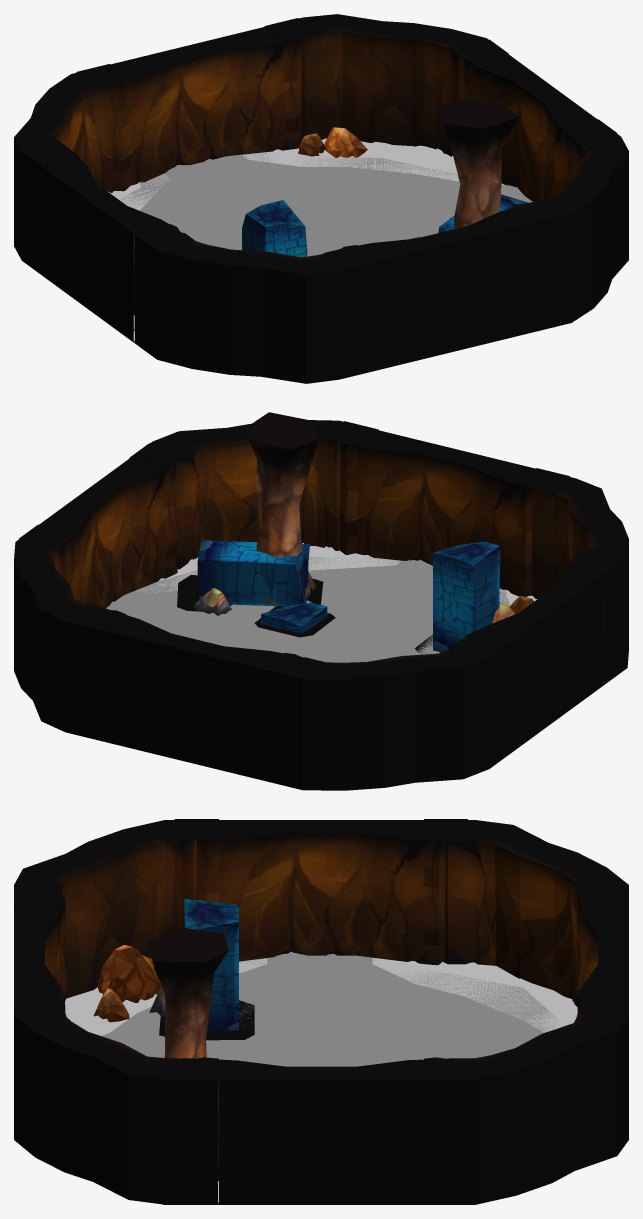
Rendered from Dungeon_062_StartRoom_001_008.fbx.
3 renders of one model, top to bottom at view 1: azimuth 30°, elevation 25°; view 2: azimuth 150°, elevation 25°; view 3: azimuth 270°, elevation 25°, orthographic. The views are drawn at different scales.
Visible parts, largest first — view 1: Dun_062_StartRoom_001_wall, Dun_062_Door_002 (×4), Dun_062_StartRoom_002_Nav, Dungeon_011_Object_010, Dun_062_StartRoom_001_shadow, Dun_051_Obj01_Pillar, Dun_062_Object_100; view 2: Dun_062_Door_002 (×4), Dun_062_StartRoom_001_wall, Dun_062_StartRoom_002_Nav, Dun_051_Obj02_Pillar, Dungeon_011_Object_010, Dun_051_Obj01_Pillar, Dun_062_StartRoom_001_shadow, Dun_051_Obj02_Pillar_Shadow, Dungeon_011_Object_013; view 3: Dun_062_StartRoom_001_wall, Dun_062_Door_002 (×4), Dun_062_StartRoom_002_Nav, Dun_062_StartRoom_001_shadow, Dungeon_011_Object_010, Dun_051_Obj01_Pillar, Dun_062_Object_100, Dun_051_Obj01_Pillar_Shadow.
Boxes of the visible parts, bbox=[...] form: Dun_062_StartRoom_001_wall: bbox=[14, 14, 628, 383]; Dun_062_Door_002 (×4): bbox=[25, 18, 616, 369]; Dun_062_StartRoom_002_Nav: bbox=[120, 153, 533, 328]; Dungeon_011_Object_010: bbox=[436, 98, 519, 228]; Dun_062_StartRoom_001_shadow: bbox=[108, 138, 503, 340]; Dun_051_Obj01_Pillar: bbox=[242, 200, 307, 257]; Dun_062_Object_100: bbox=[298, 127, 367, 157]; Dun_062_Door_002 (×4): bbox=[19, 421, 622, 780]; Dun_062_StartRoom_001_wall: bbox=[14, 420, 628, 790]; Dun_062_StartRoom_002_Nav: bbox=[105, 556, 510, 662]; Dun_051_Obj02_Pillar: bbox=[197, 540, 327, 633]; Dungeon_011_Object_010: bbox=[244, 412, 318, 604]; Dun_051_Obj01_Pillar: bbox=[433, 541, 499, 652]; Dun_062_StartRoom_001_shadow: bbox=[136, 543, 604, 682]; Dun_051_Obj02_Pillar_Shadow: bbox=[177, 575, 335, 637]; Dungeon_011_Object_013: bbox=[193, 588, 231, 615]; Dun_062_StartRoom_001_wall: bbox=[14, 820, 628, 1204]; Dun_062_Door_002 (×4): bbox=[14, 819, 628, 1204]; Dun_062_StartRoom_002_Nav: bbox=[92, 951, 563, 1066]; Dun_062_StartRoom_001_shadow: bbox=[65, 957, 577, 1202]; Dungeon_011_Object_010: bbox=[147, 928, 228, 1058]; Dun_051_Obj01_Pillar: bbox=[184, 898, 238, 1031]; Dun_062_Object_100: bbox=[93, 945, 160, 1022]; Dun_051_Obj01_Pillar_Shadow: bbox=[159, 1000, 254, 1040].
Size of the model in its own units: 9.04 by 3.02 by 9.
